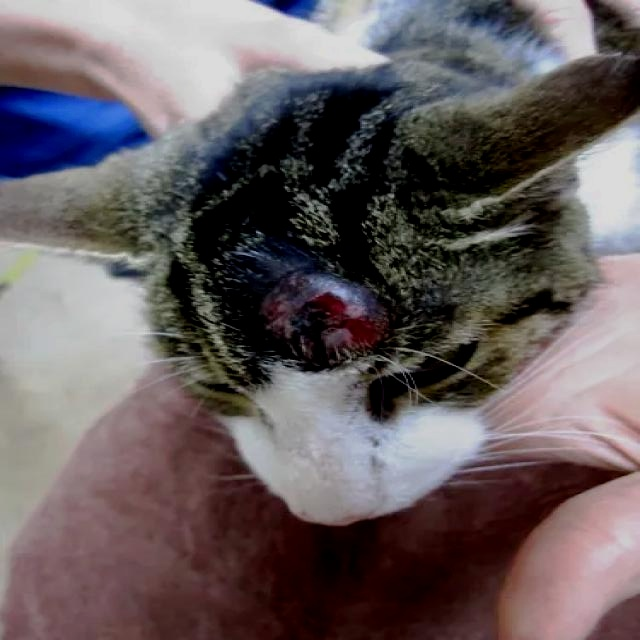lump_and_bump: (244, 269, 397, 358)
